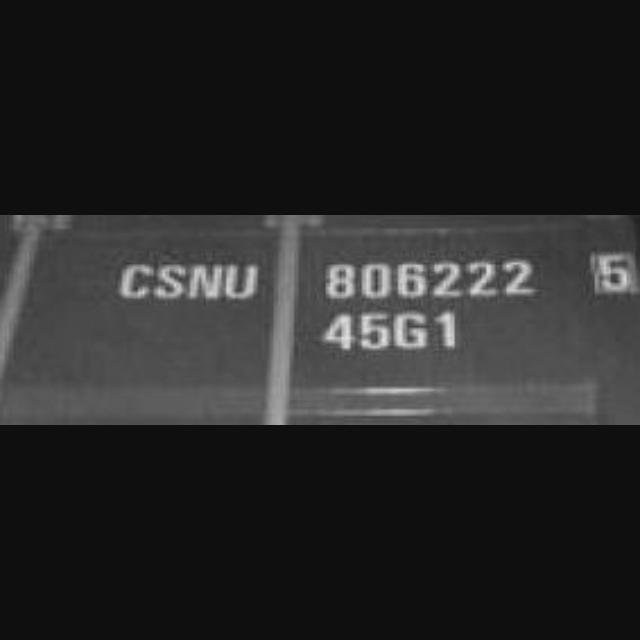0: (356, 254, 390, 302)
1: (432, 306, 464, 359)
2: (496, 249, 536, 297), (466, 253, 498, 304), (431, 258, 464, 304)
4: (322, 313, 356, 353)
5: (592, 254, 638, 298), (358, 310, 390, 354)
6: (393, 257, 429, 303)
8: (322, 260, 354, 304)
c: (118, 258, 154, 304)
g: (392, 309, 430, 353)
n: (188, 254, 225, 304)
s: (158, 258, 188, 304)
u: (226, 256, 258, 298)
